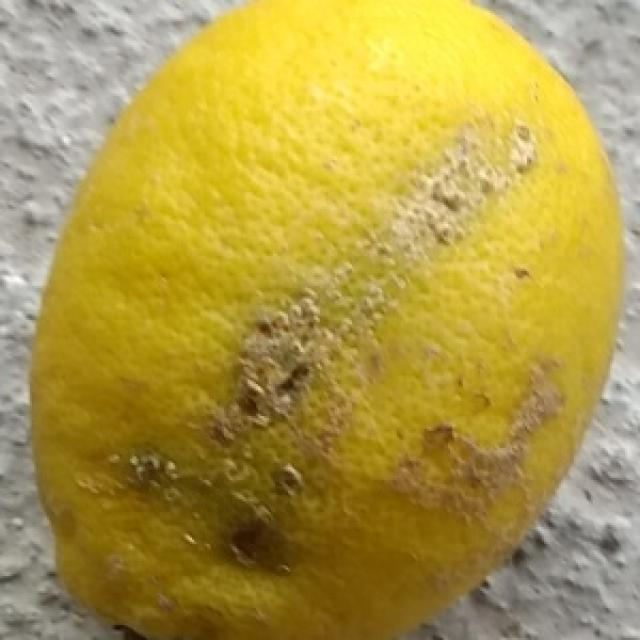overripe: (30, 6, 629, 640)
